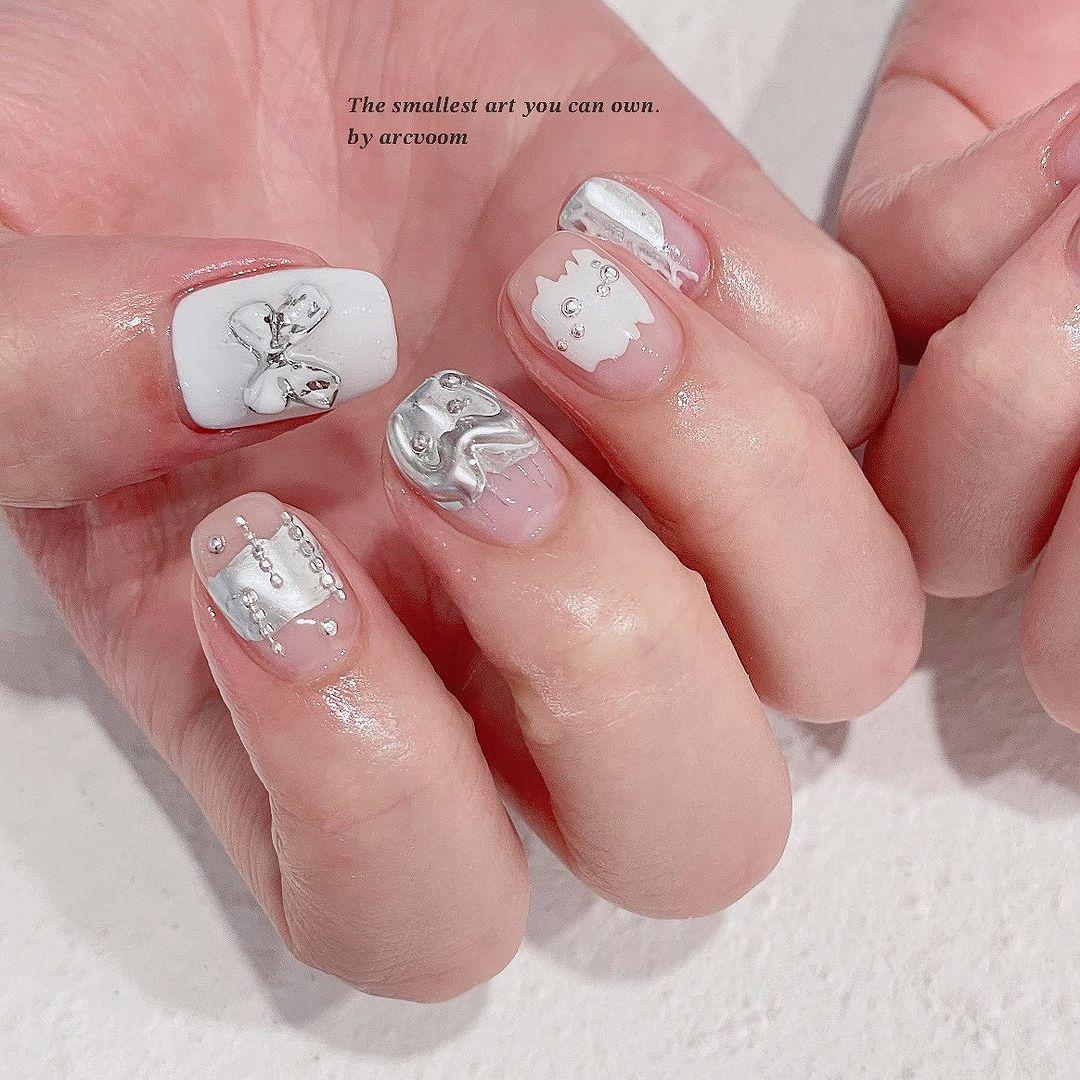nail: (172, 268, 396, 429), (189, 490, 362, 686), (382, 368, 571, 547), (506, 232, 681, 397), (556, 173, 714, 302)
